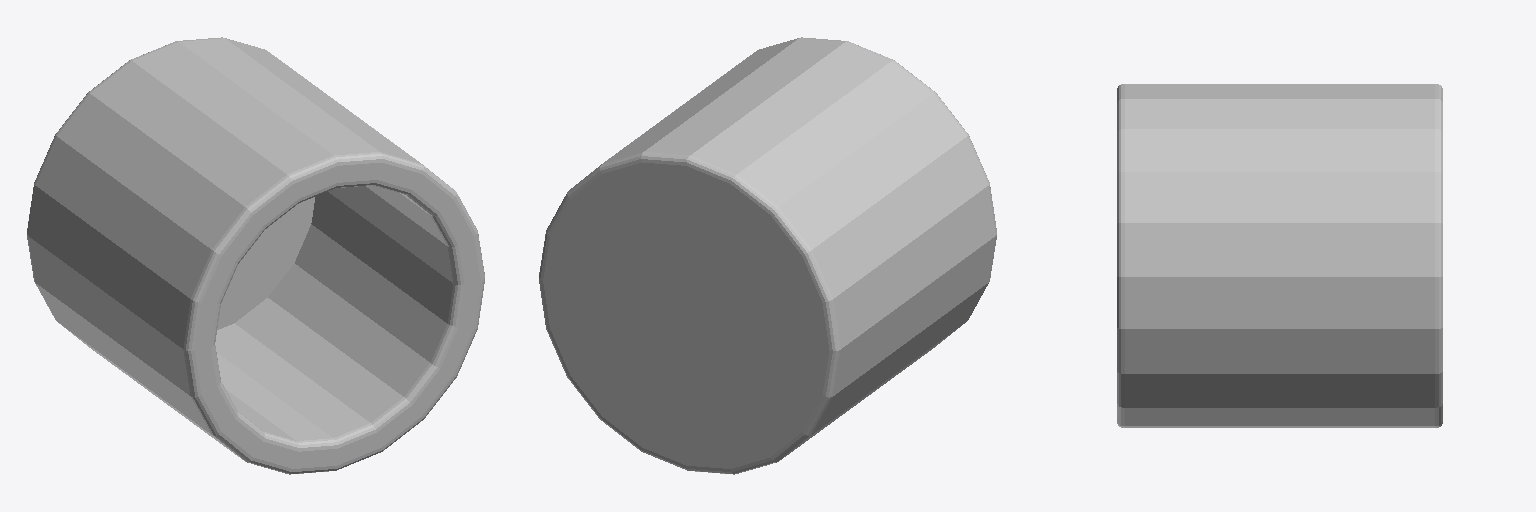
File: cup_pen.obj
3 renders of one model, left to right at view 1: azimuth 30°, elevation 25°; view 2: azimuth 150°, elevation 25°; view 3: azimuth 270°, elevation 25°, orthographic.
Parts seen in each view (by area): view 1: cup_for_pens; view 2: cup_for_pens; view 3: cup_for_pens.
Part boxes in pixels (x1,y1,x2,y2): cup_for_pens: (27,37,484,474); cup_for_pens: (539,37,996,474); cup_for_pens: (1117,84,1442,427).
Bounding box in the file's own units: 38.61 × 38.61 × 36.33.